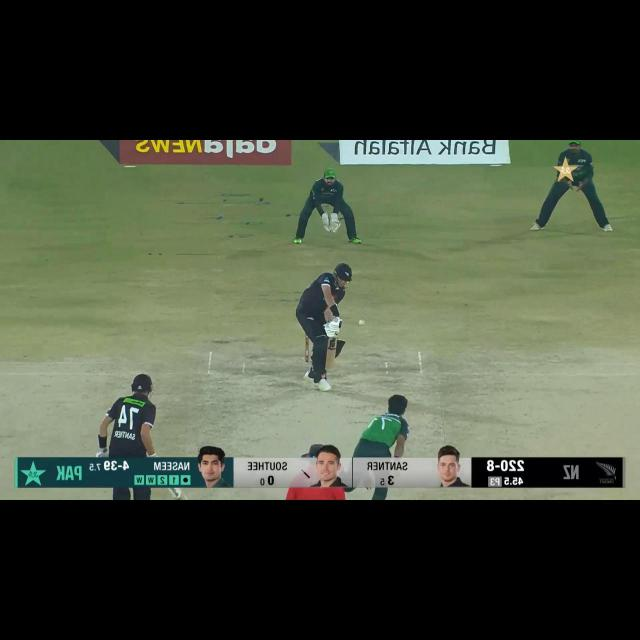bat: (325, 336, 336, 371), (168, 488, 187, 499)
toe: (325, 360, 336, 371)
